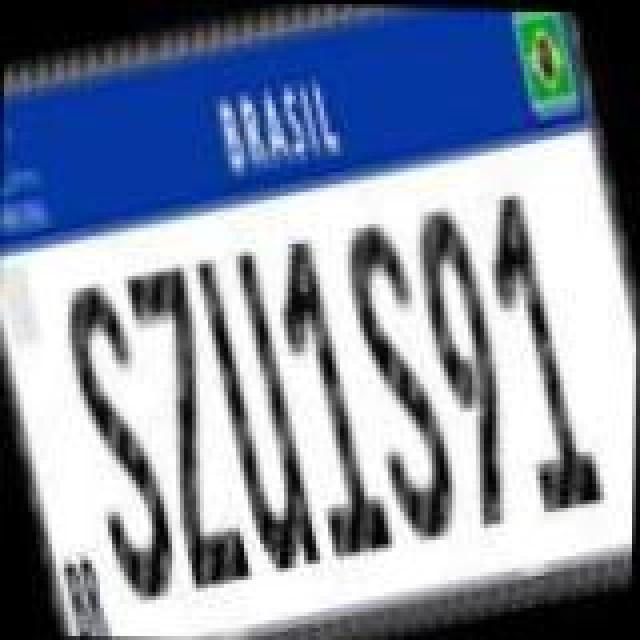1: (258, 226, 406, 566), (468, 180, 616, 520)
9: (400, 196, 540, 532)
S: (46, 272, 194, 612), (328, 212, 476, 552)
U: (184, 240, 336, 584)
Z: (116, 254, 260, 594)
